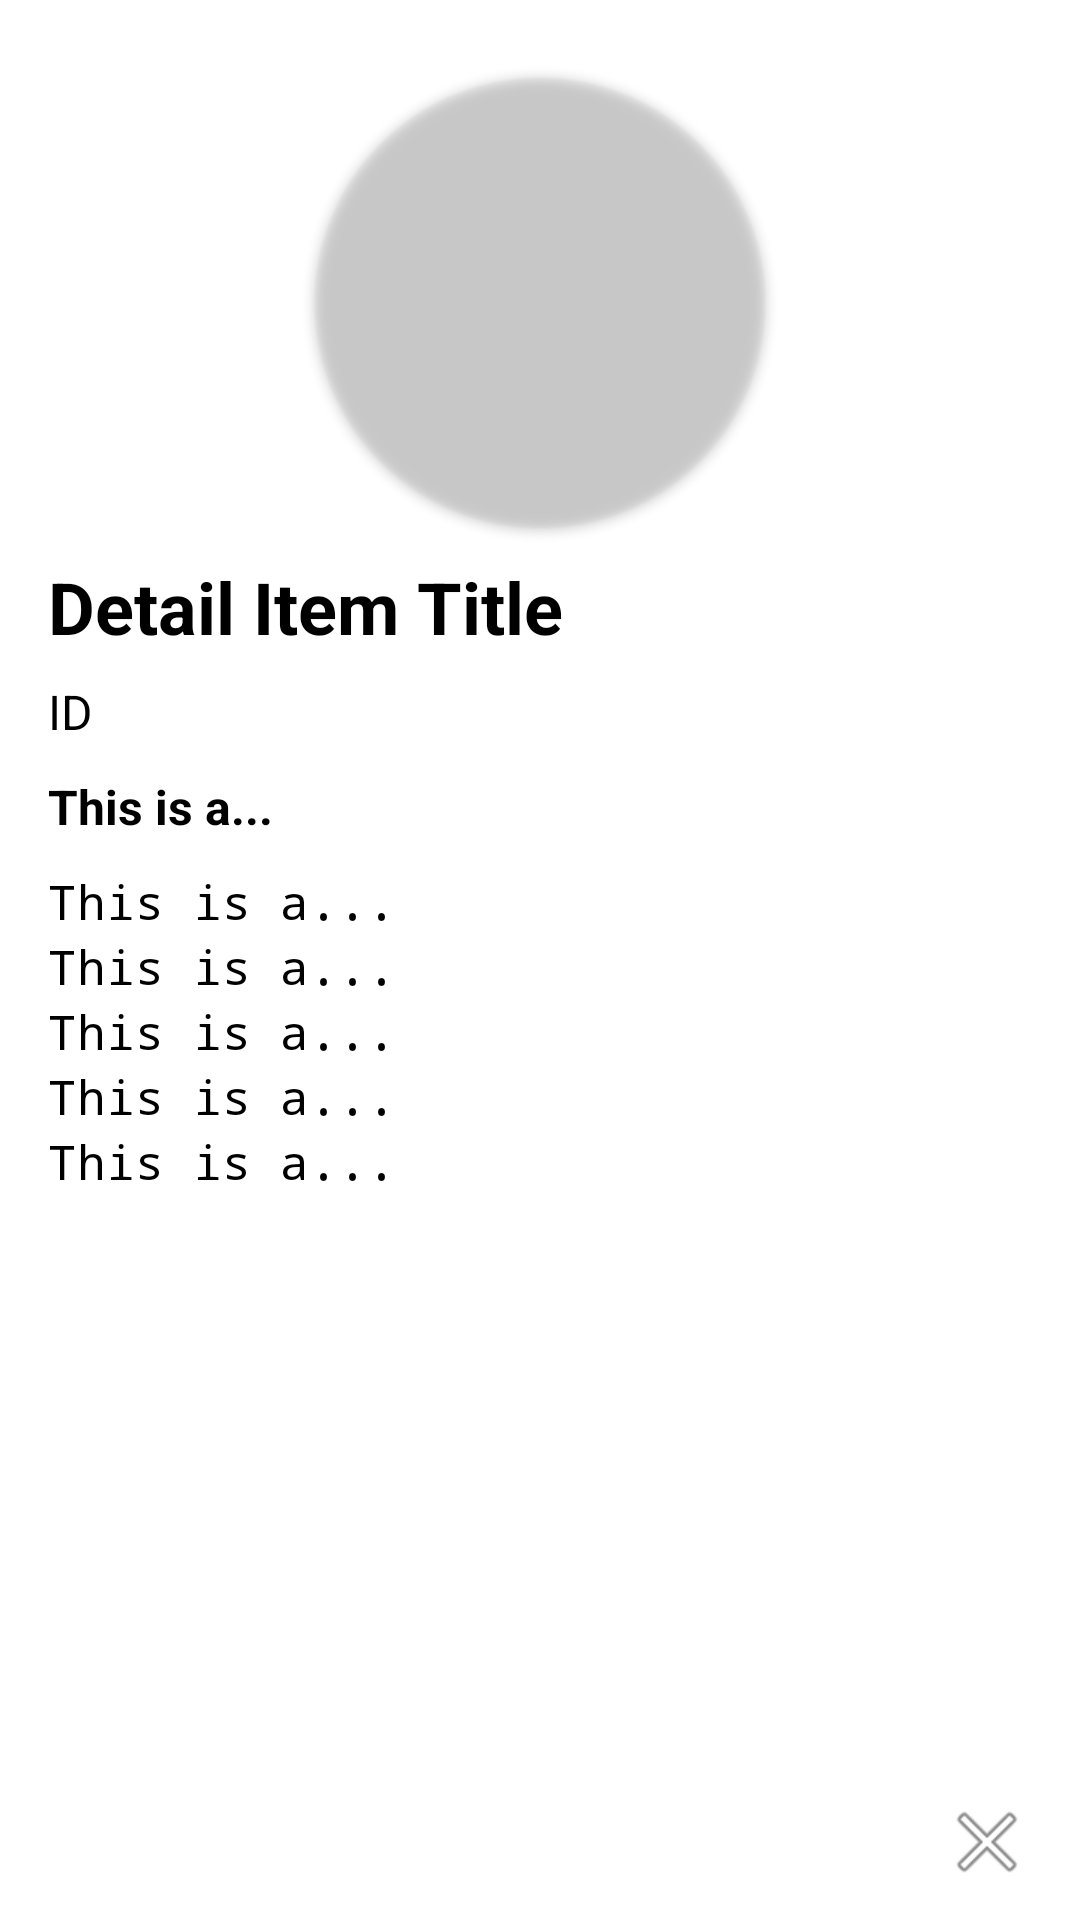

Locate icon controls on the screen. Image size 1080x1920, boxes as (x1, y1, x2, y2).
close clear cancel: (957, 1812, 1017, 1872)
